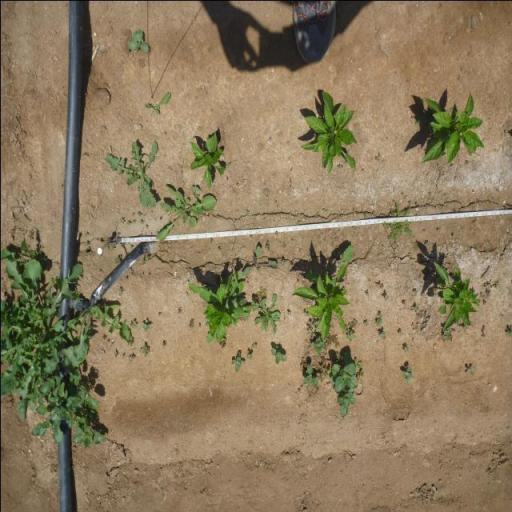plant: (297, 87, 359, 174), (419, 89, 485, 164), (291, 265, 350, 337), (430, 259, 482, 329), (201, 267, 250, 341), (186, 129, 226, 192)
weed: (0, 258, 103, 448), (100, 140, 158, 212), (154, 182, 218, 241), (70, 300, 130, 354), (328, 350, 354, 417), (381, 202, 414, 246), (241, 247, 278, 278), (256, 296, 280, 334), (142, 91, 172, 115), (126, 28, 150, 54), (316, 352, 330, 381), (300, 364, 316, 388), (268, 344, 287, 364), (230, 354, 244, 373), (353, 356, 363, 382), (325, 333, 340, 349), (310, 336, 323, 354), (401, 366, 414, 383), (441, 328, 454, 345), (344, 316, 358, 331), (189, 184, 202, 199), (132, 208, 142, 226), (256, 284, 267, 298), (139, 318, 149, 332), (141, 342, 150, 357), (304, 321, 312, 335), (346, 330, 355, 342), (464, 364, 473, 376), (119, 216, 129, 226), (126, 336, 135, 347), (187, 316, 194, 330), (375, 312, 382, 326), (454, 324, 466, 332), (379, 328, 386, 341), (28, 226, 34, 240), (264, 238, 270, 252), (245, 348, 252, 360), (479, 324, 485, 338), (113, 255, 121, 265), (218, 340, 226, 350), (375, 278, 383, 288), (409, 304, 419, 312), (374, 151, 382, 161), (504, 328, 512, 338), (141, 254, 149, 263), (251, 298, 257, 310), (492, 278, 498, 290), (414, 117, 422, 125), (127, 355, 135, 362), (382, 291, 388, 300), (280, 256, 285, 266), (160, 340, 166, 348), (176, 305, 182, 313), (402, 345, 408, 353), (336, 163, 343, 169), (397, 328, 402, 336), (250, 342, 256, 348), (281, 242, 287, 248), (362, 320, 368, 326), (364, 289, 368, 298), (424, 240, 430, 246), (472, 242, 477, 249), (286, 309, 291, 315), (226, 161, 231, 167), (244, 209, 248, 216)
